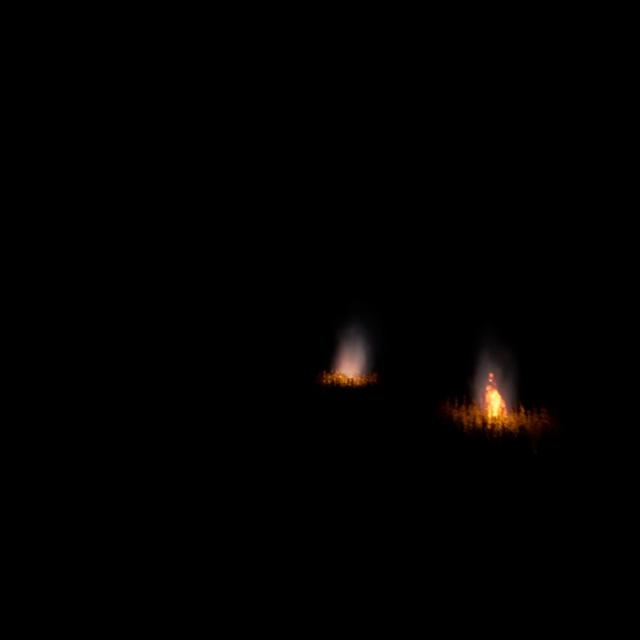fire: (482, 372, 506, 421)
smoke: (473, 352, 520, 419), (335, 336, 375, 380)
